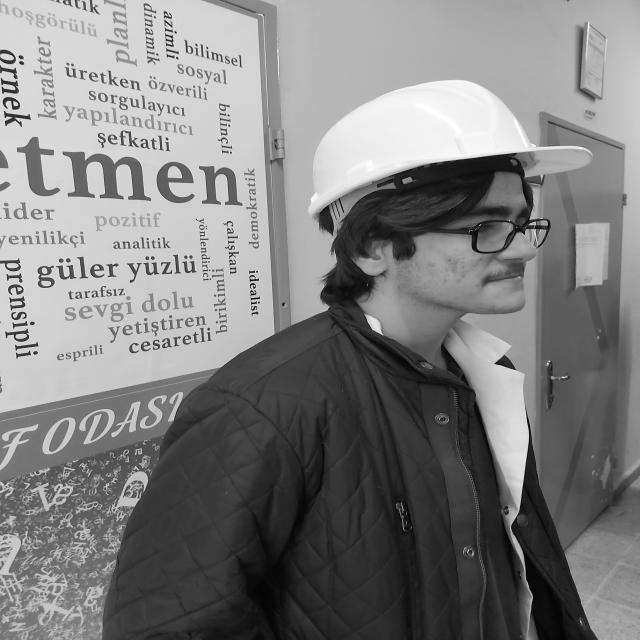safety_helmet: (308, 84, 535, 228)
